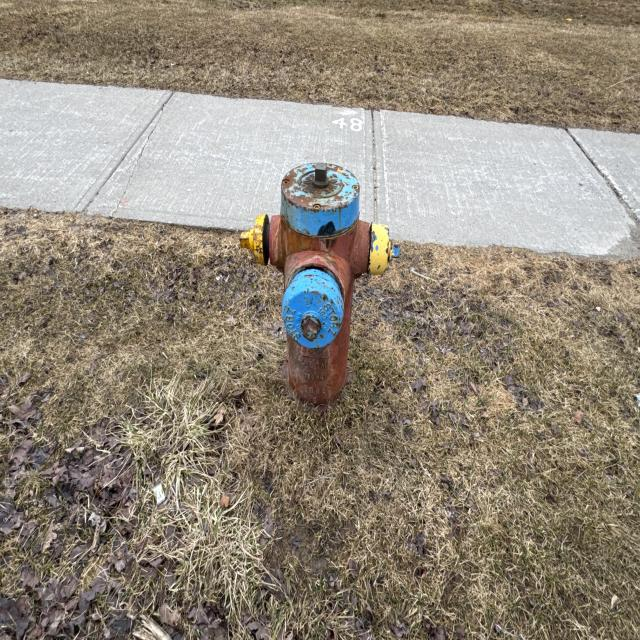Fire hydrant: (239, 162, 402, 416)
